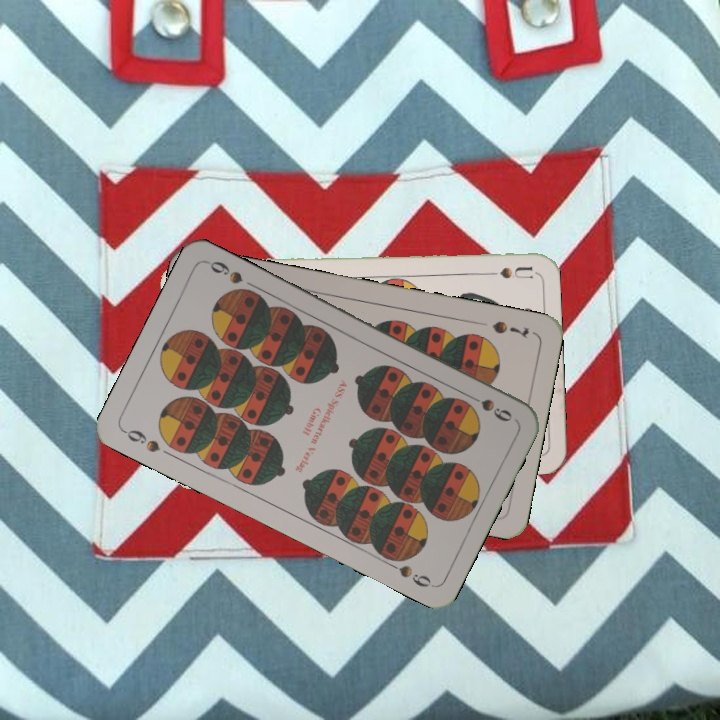S7: (488, 316, 532, 342)
S9: (461, 389, 515, 424), (119, 425, 163, 455)
SU: (475, 262, 534, 281)
